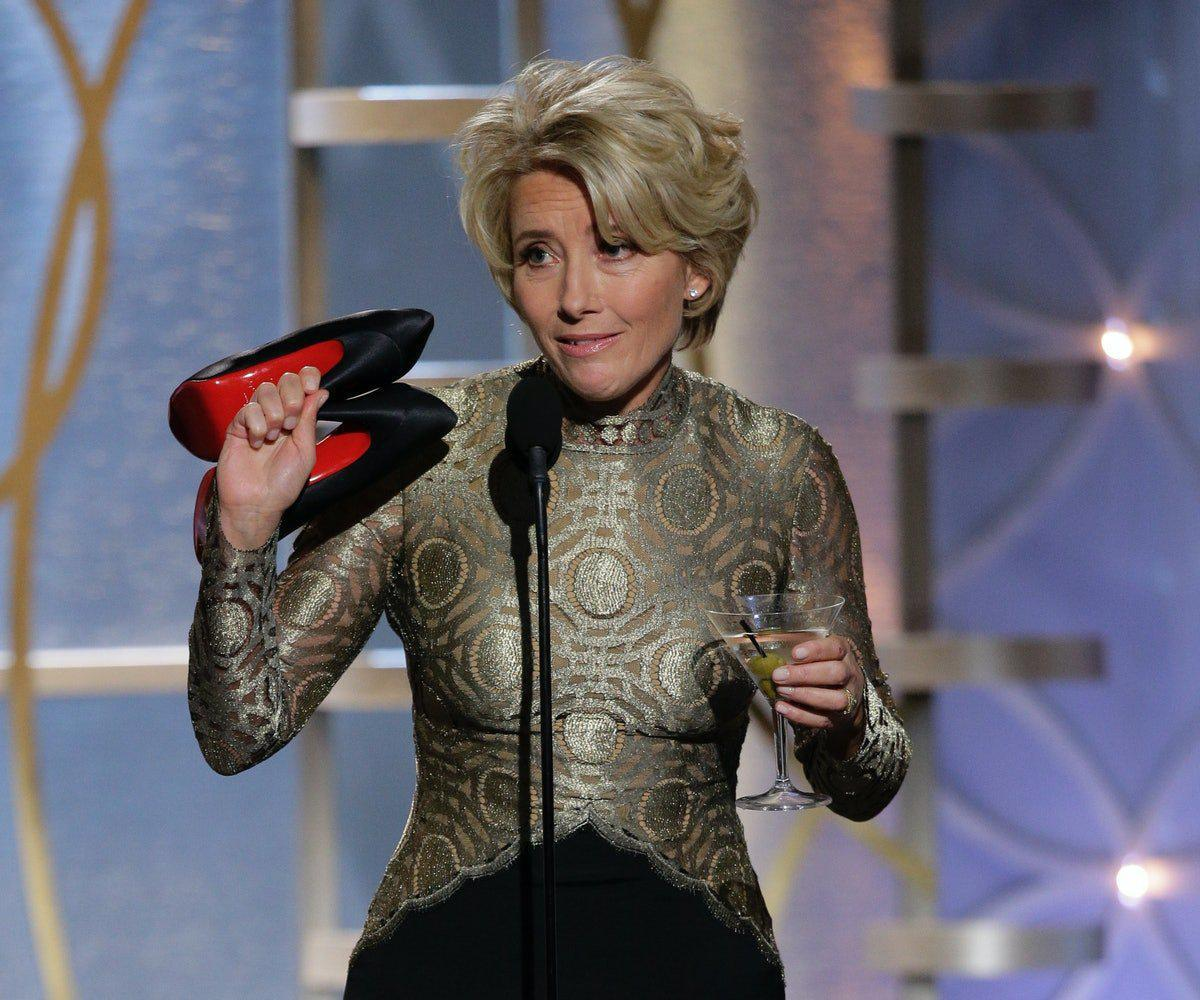Drunk: (495, 168, 679, 403)
